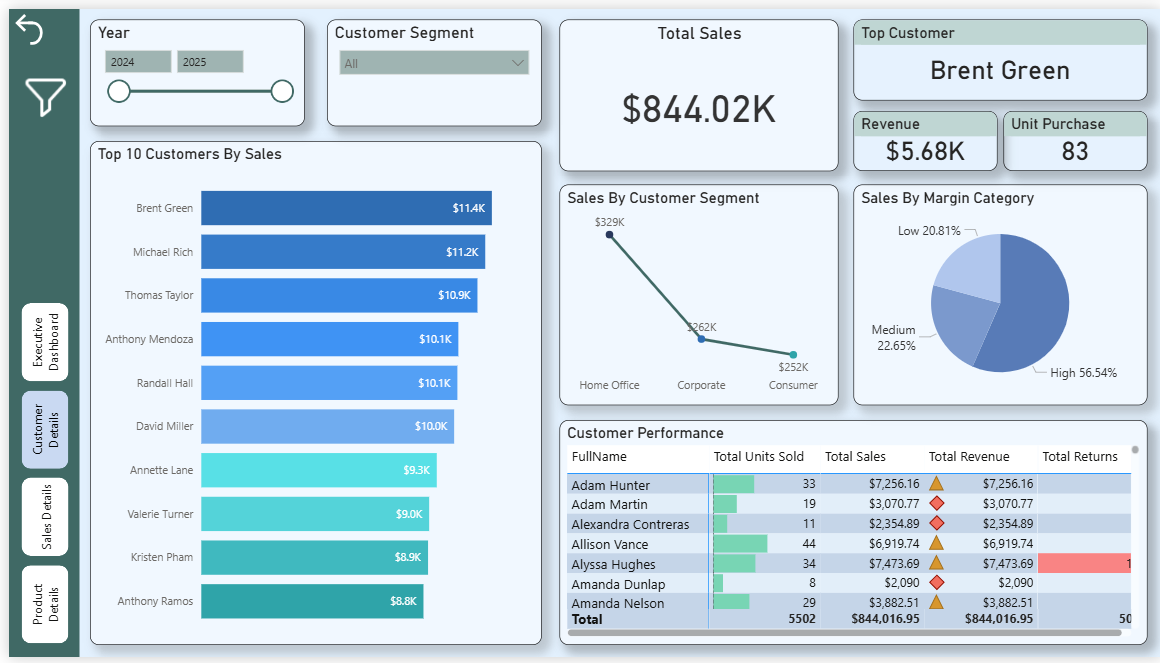

This screenshot's page, from the dashboard's own definition file:
{"tool":"powerbi","page":{"name":"Customer Details","canvas":[1280,720],"ordinal":1},"visuals":[{"type":"shape","box":[0,0,78.3,720],"z":0},{"type":"lineChart","title":"Sales By Customer Segment","fields":{"Category":["Customer_Dim.Segment"],"Y":["Measure_Table.Total Sales"]},"box":[611.7,195,310,245],"z":1000},{"type":"pivotTable","title":"Customer Performance","fields":{"Rows":["Customer_Dim.FullName"],"Values":["Measure_Table.Total Units Sold","Measure_Table.Total Sales","Measure_Table.Total Revenue","Measure_Table.Total Returns"]},"box":[611.7,456.7,653.3,250],"z":2000},{"type":"barChart","title":"Top 10 Customers By Sales","fields":{"Category":["Customer_Dim.FullName"],"Y":["Measure_Table.Total Sales"]},"box":[90,146.7,501.7,560],"z":3000},{"type":"pieChart","title":"Sales By Margin Category","fields":{"Category":["Sales_Fact.ProfitMarginCategory"],"Y":["Measure_Table.Total Sales"]},"box":[938.3,195,326.7,245],"z":4000},{"type":"card","title":"Top Customer","fields":{"Values":["Measure_Table.FullName(Customer Details)"]},"box":[938.3,11.7,326.7,90],"z":5000},{"type":"card","title":"Total Sales","fields":{"Values":["Measure_Table.Total Sales"]},"box":[611.7,11.7,310,168.3],"z":6000},{"type":"card","title":"Revenue","fields":{"Values":["Measure_Table.Total Revenue(Customer Details)"]},"box":[938.3,113.3,160,66.7],"z":7000},{"type":"card","title":"Unit Purchase","fields":{"Values":["Measure_Table.Total Units Sold(Customer Details)"]},"box":[1105,113.3,160,66.7],"z":8000},{"type":"slicer","title":"Year","fields":{"Values":["Date_Dim.Year"]},"box":[90,11.7,238.3,118.3],"z":9000},{"type":"slicer","title":"Customer Segment","fields":{"Values":["Customer_Dim.Segment"]},"box":[353.3,11.7,238.3,118.3],"z":10000},{"type":"actionButton","box":[0,0,78.3,45],"z":11000},{"type":"pageNavigator","box":[10,326.7,60,378.3],"z":12000},{"type":"actionButton","box":[10,66.7,78.3,61.7],"z":13000}]}

Visuals, with their boxes in screenshot pixels (x1, y1, x2, y2):
shape: bbox=(6, 9, 76, 653)
"Sales By Customer Segment" lineChart: bbox=(553, 183, 830, 402)
"Customer Performance" pivotTable: bbox=(553, 417, 1137, 641)
"Top 10 Customers By Sales" barChart: bbox=(86, 140, 535, 641)
"Sales By Margin Category" pieChart: bbox=(845, 183, 1137, 402)
"Top Customer" card: bbox=(845, 20, 1137, 100)
"Total Sales" card: bbox=(553, 20, 830, 170)
"Revenue" card: bbox=(845, 110, 988, 170)
"Unit Purchase" card: bbox=(994, 110, 1137, 170)
"Year" slicer: bbox=(86, 20, 299, 125)
"Customer Segment" slicer: bbox=(322, 20, 535, 125)
actionButton: bbox=(6, 9, 76, 49)
pageNavigator: bbox=(15, 301, 69, 639)
actionButton: bbox=(15, 69, 85, 124)
